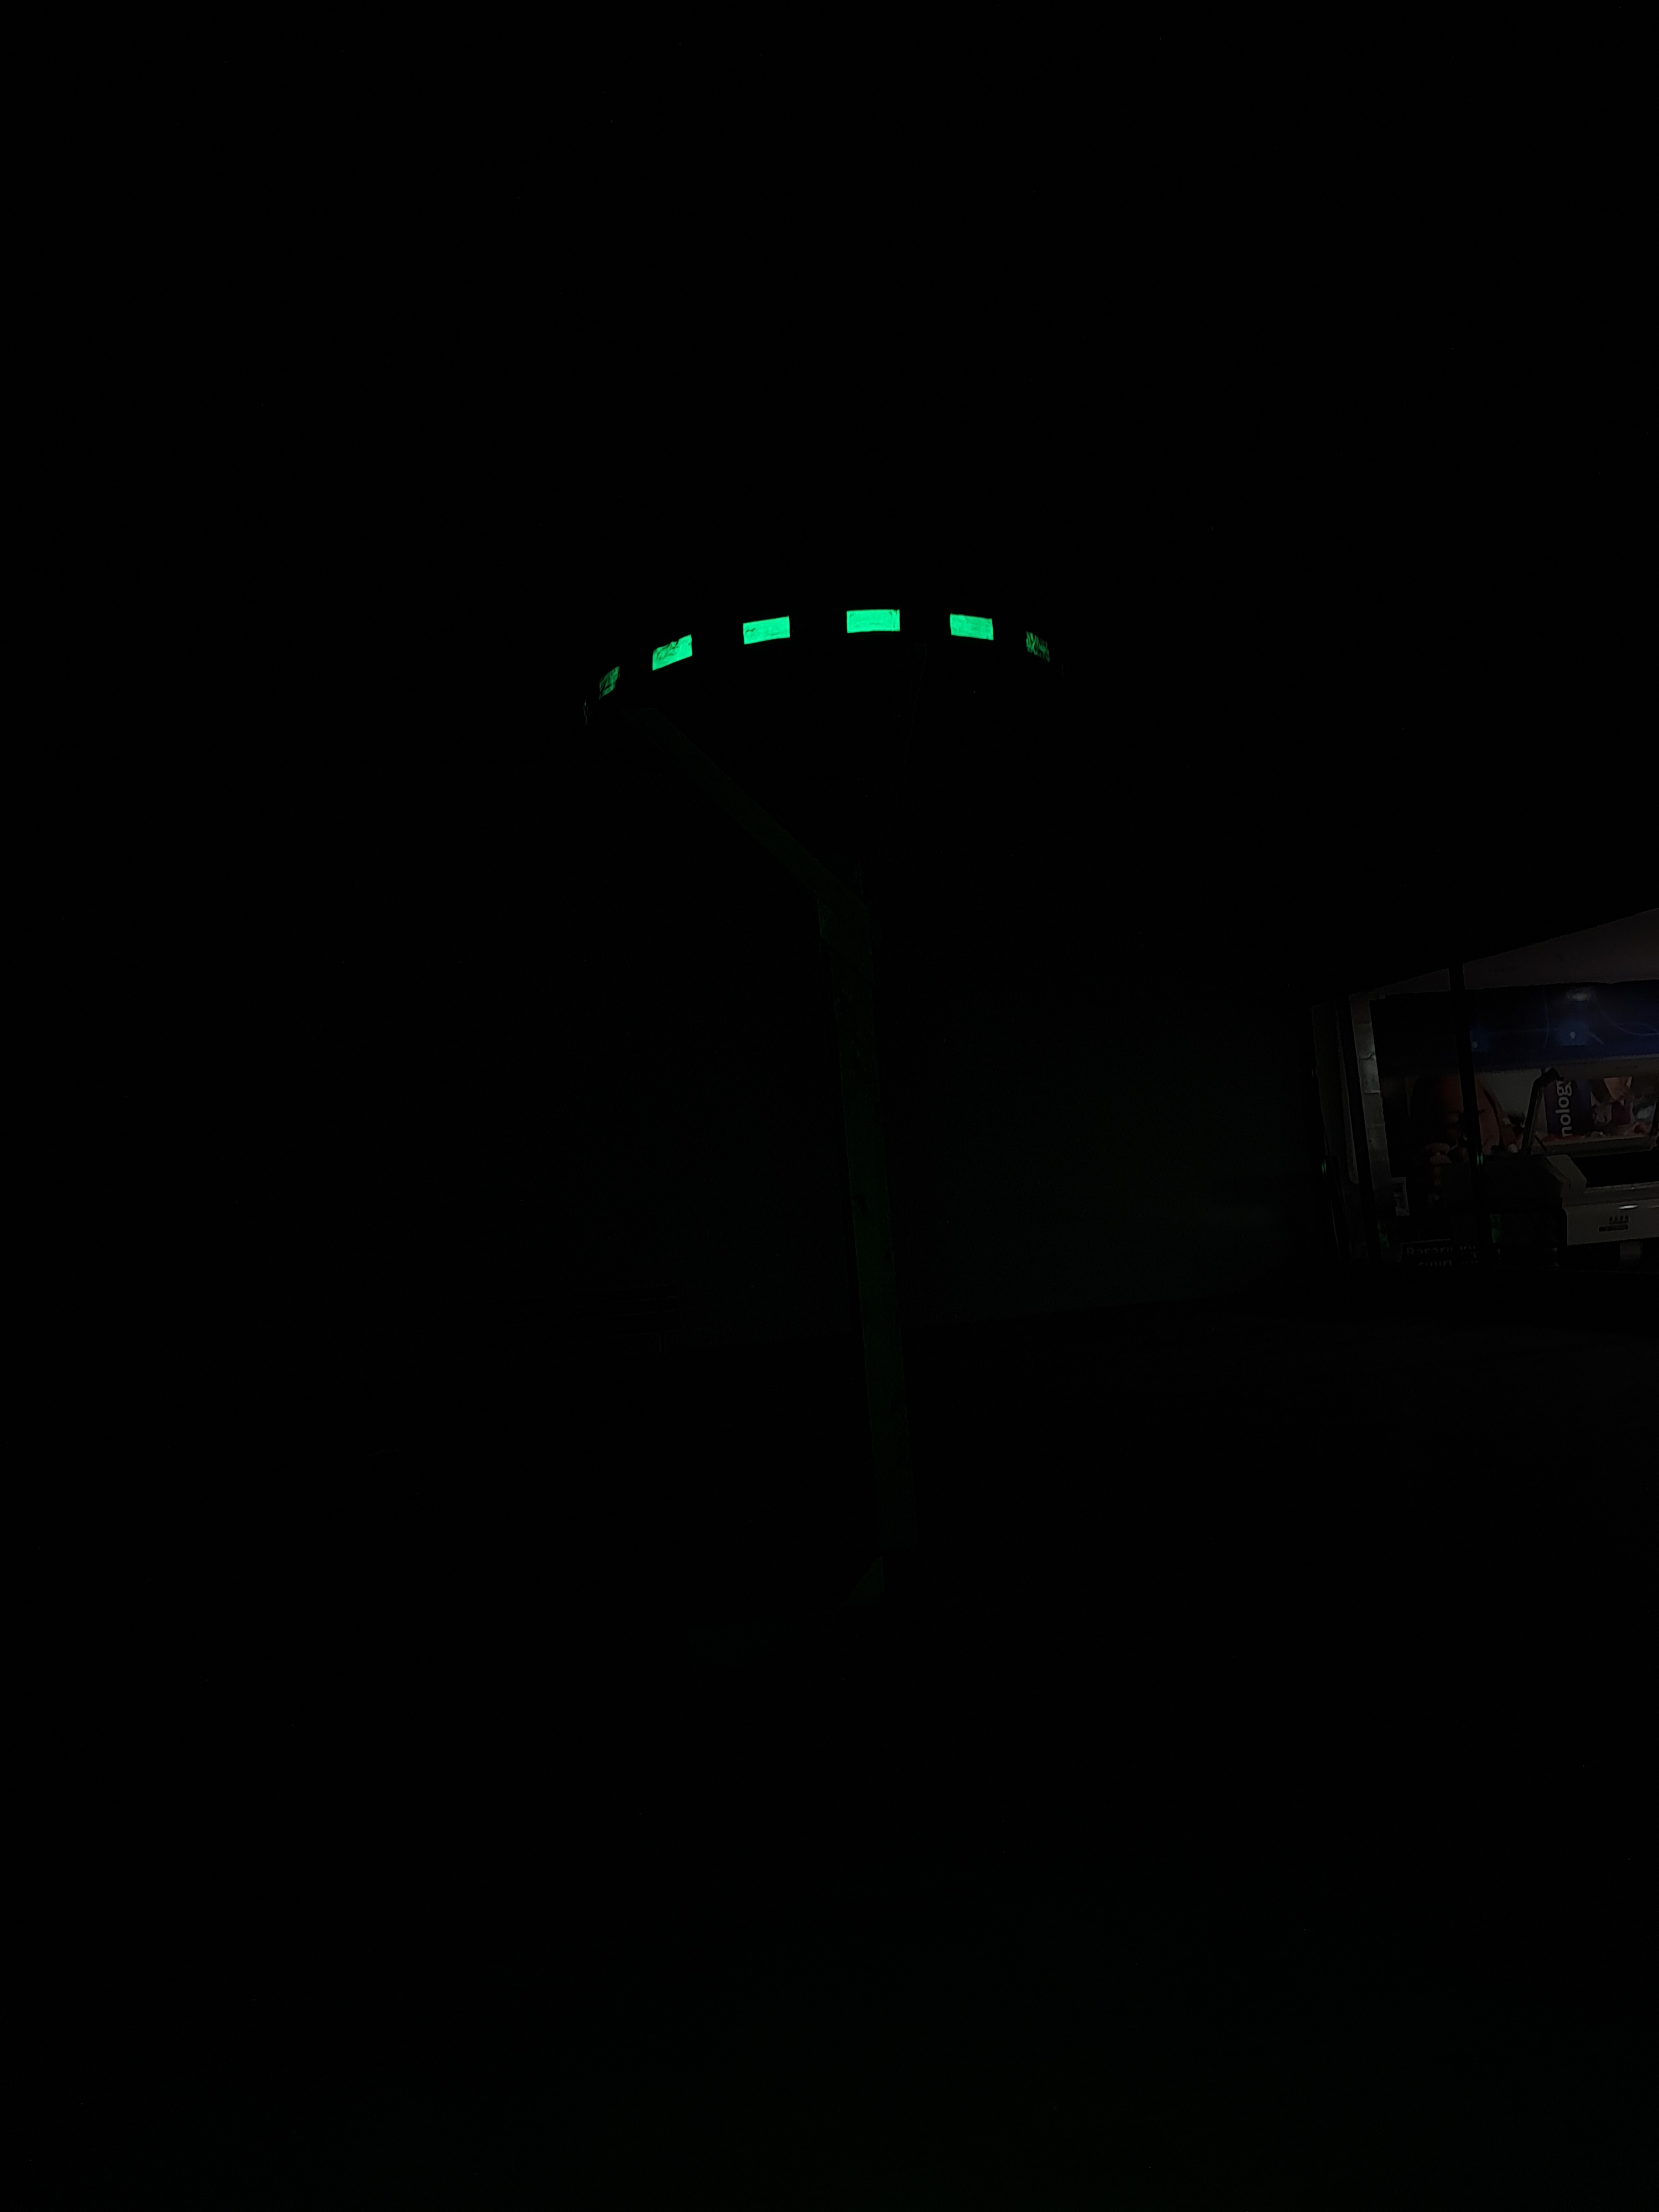hoop: (537, 599, 1072, 702)
